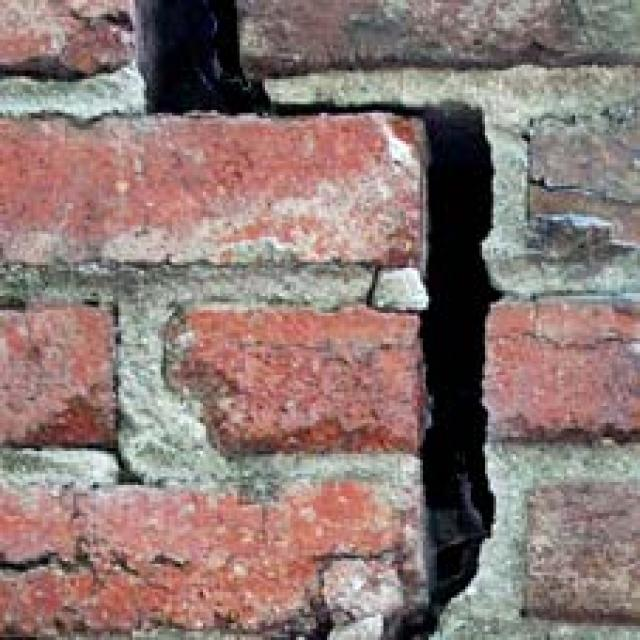Crack: (87, 0, 575, 640)
